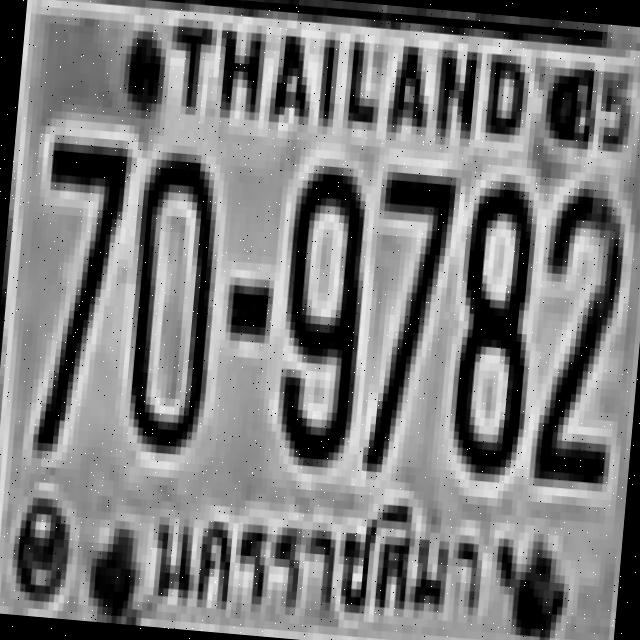0: (116, 142, 222, 448), (268, 156, 368, 460)
2: (526, 178, 626, 483)
7: (22, 134, 128, 448), (356, 163, 452, 468), (361, 163, 452, 421)
8: (446, 170, 540, 468)
9: (268, 156, 368, 460)
NakhonRatchasima: (135, 474, 500, 640)
